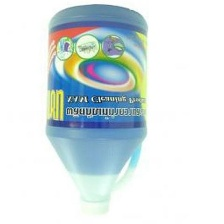cleaning_solution: (43, 1, 152, 215)
